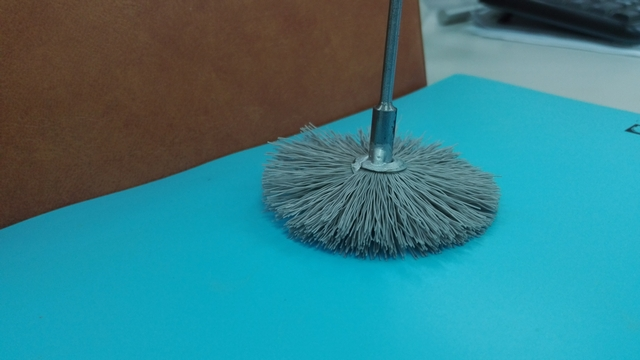TOOL: (239, 27, 538, 270), (217, 100, 521, 273), (328, 43, 523, 284)
